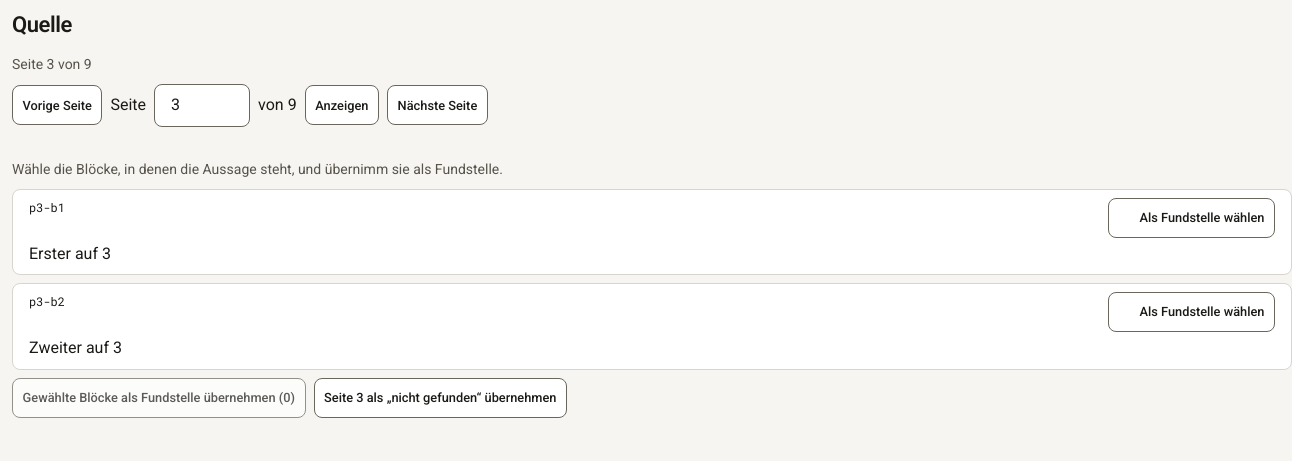
Test: the source a statement's anchor is chosen in › takes the page shown as one the passage was not found on
Click the button with test id "not-found": (440, 398) [314,378,567,418]
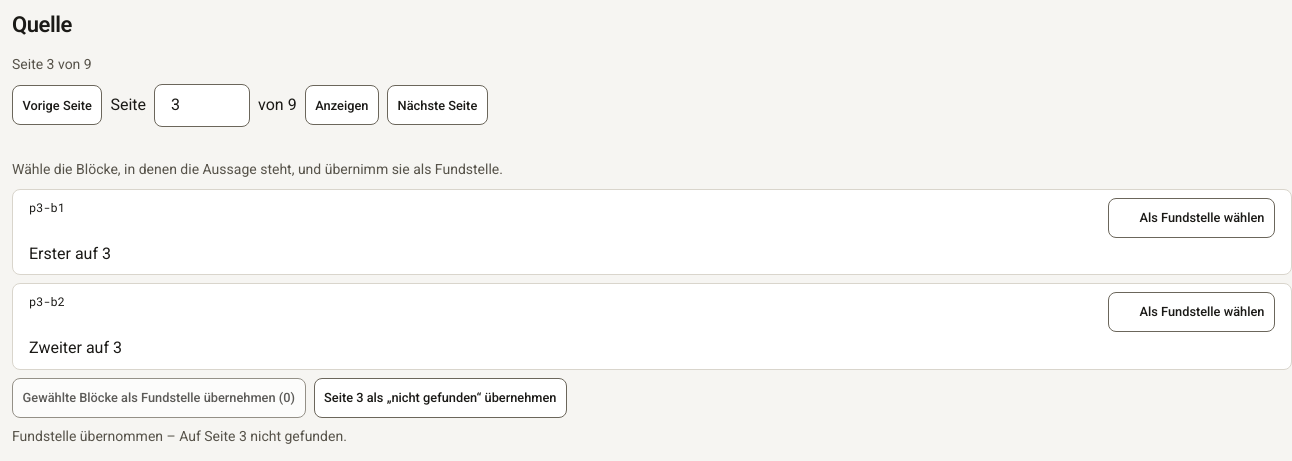
Check: the text "Fundstelle übernommen – Auf Seite 3 nicht gefunden." is shown, box [12,428,347,444]
